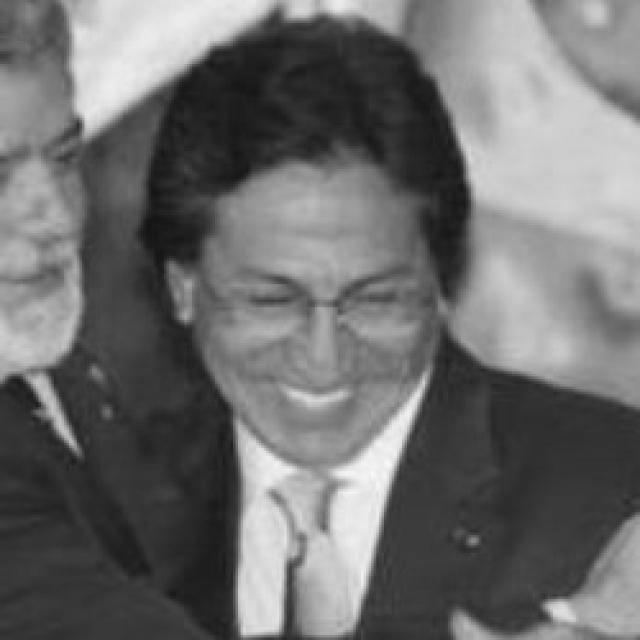real: (194, 160, 444, 462), (236, 258, 402, 340)
